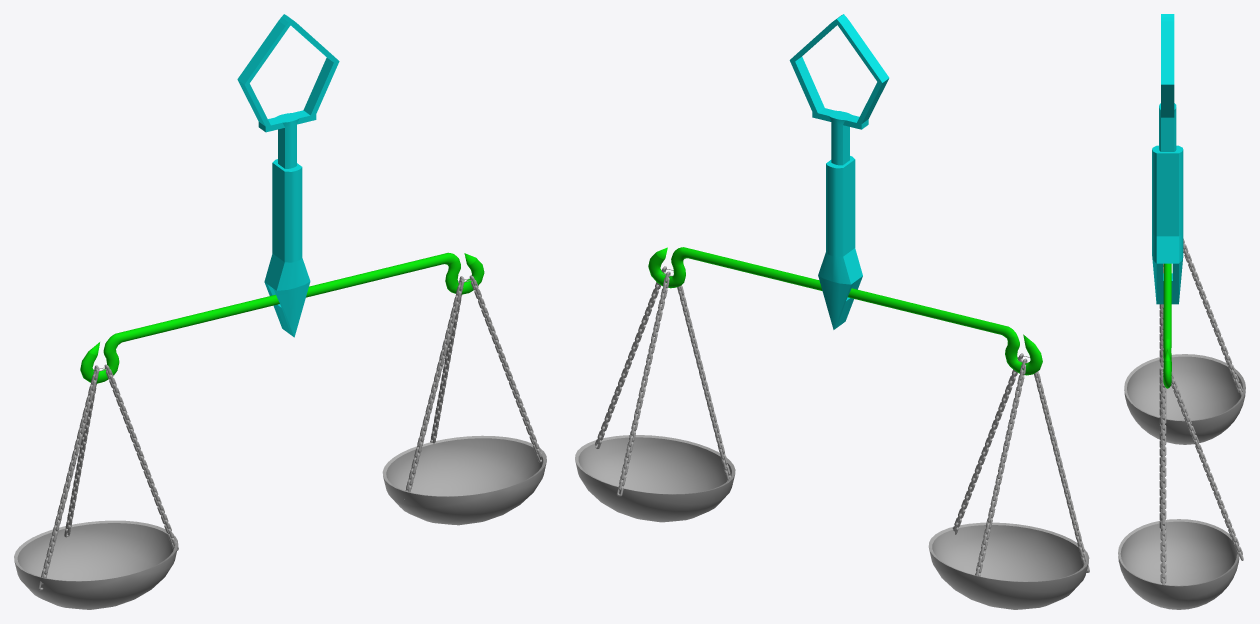
Rendered from Balance_No3.fbx.
3 views of the same model, side by side, from view 1: azimuth 30°, elevation 25°; view 2: azimuth 150°, elevation 25°; view 3: azimuth 270°, elevation 25° (orthographic). The views are drawn at different scales.
Visible parts, largest first — view 1: utuwa_R, utuwa_L, pCube3, pCylinder3; view 2: utuwa_L, utuwa_R, pCube3, pCylinder3; view 3: utuwa_R, utuwa_L, pCube3, pCylinder3.
Part boxes in pixels (left/top/right/bottom): utuwa_R: left=382, top=435, right=546, bottom=525; utuwa_L: left=14, top=520, right=178, bottom=609; pCube3: left=237, top=14, right=339, bottom=337; pCylinder3: left=80, top=252, right=484, bottom=383; utuwa_L: left=928, top=522, right=1089, bottom=609; utuwa_R: left=575, top=435, right=735, bottom=522; pCube3: left=789, top=14, right=889, bottom=329; pCylinder3: left=648, top=247, right=1042, bottom=375; utuwa_R: left=1118, top=519, right=1239, bottom=609; utuwa_L: left=1124, top=354, right=1245, bottom=444; pCube3: left=1152, top=14, right=1183, bottom=304; pCylinder3: left=1163, top=263, right=1171, bottom=388.
Size of the model in its own units: 14.59 by 14.85 by 3.42.
